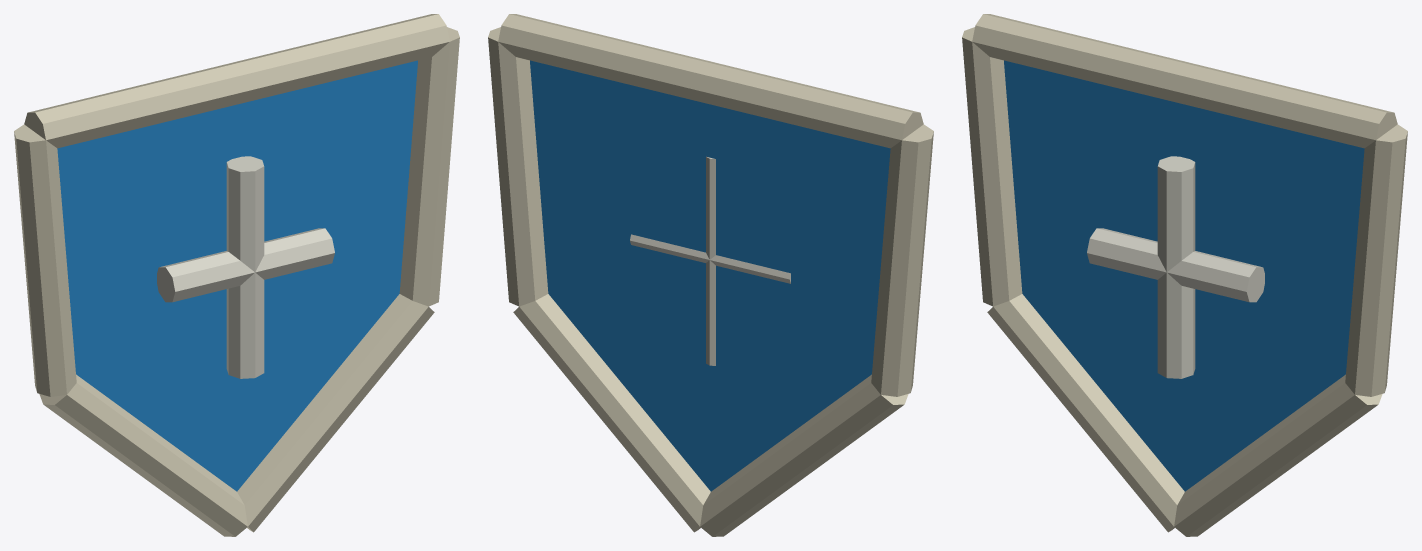
The model's file is shield.glb.
3 views of the same model, side by side, from view 1: azimuth 30°, elevation 25°; view 2: azimuth 150°, elevation 25°; view 3: azimuth 330°, elevation 25° (orthographic).
Parts seen in each view (by area): view 1: PickupMesh_shield; view 2: PickupMesh_shield; view 3: PickupMesh_shield.
Part boxes in pixels (left/top/right/bottom): PickupMesh_shield: left=14, top=14, right=459, bottom=536; PickupMesh_shield: left=488, top=14, right=933, bottom=536; PickupMesh_shield: left=962, top=14, right=1407, bottom=536.
Size of the model in its own units: 1.05 by 1.07 by 0.12.
